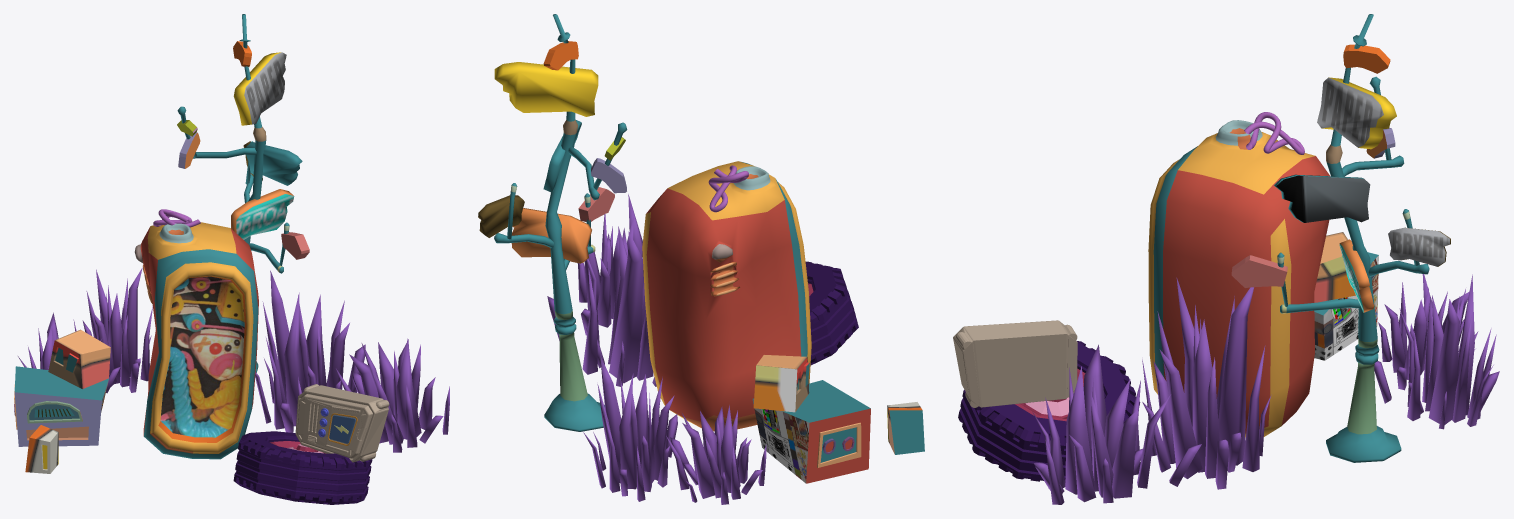
The model's file is Big_ZS_1.fbx.
3 renders of one model, left to right at view 1: azimuth 30°, elevation 25°; view 2: azimuth 150°, elevation 25°; view 3: azimuth 270°, elevation 25°, orthographic. The views are drawn at different scales.
Parts seen in each view (by area): view 1: 贝塞尔曲线, 堆叠物.003, 植被1.006, 柱体.002, 立方体.002, 植被1.005, 立方体.001; view 2: 贝塞尔曲线, 柱体.002, 植被1.005, 立方体.002, 植被1.006, 堆叠物.003, 立方体.001; view 3: 贝塞尔曲线, 植被1.006, 柱体.002, 堆叠物.003, 植被1.005, 立方体.002, 立方体.001.
Boxes of the visible parts, left/top/right/bottom form: 贝塞尔曲线: left=134, top=209, right=258, bottom=459; 堆叠物.003: left=233, top=384, right=389, bottom=504; 植被1.006: left=255, top=270, right=449, bottom=452; 柱体.002: left=177, top=14, right=309, bottom=372; 立方体.002: left=14, top=366, right=109, bottom=473; 植被1.005: left=18, top=267, right=152, bottom=393; 立方体.001: left=48, top=329, right=110, bottom=388; 贝塞尔曲线: left=642, top=161, right=811, bottom=431; 柱体.002: left=478, top=14, right=627, bottom=431; 植被1.005: left=583, top=356, right=766, bottom=504; 立方体.002: left=752, top=380, right=924, bottom=483; 植被1.006: left=547, top=194, right=656, bottom=386; 堆叠物.003: left=805, top=261, right=858, bottom=365; 立方体.001: left=753, top=355, right=809, bottom=412; 贝塞尔曲线: left=1148, top=112, right=1329, bottom=437; 植被1.006: left=1032, top=277, right=1271, bottom=504; 柱体.002: left=1231, top=14, right=1450, bottom=462; 堆叠物.003: left=953, top=320, right=1140, bottom=482; 植被1.005: left=1374, top=274, right=1499, bottom=429; 立方体.002: left=1314, top=252, right=1378, bottom=360; 立方体.001: left=1314, top=232, right=1355, bottom=302.
Size of the model in its own units: 413 by 420 by 430.
